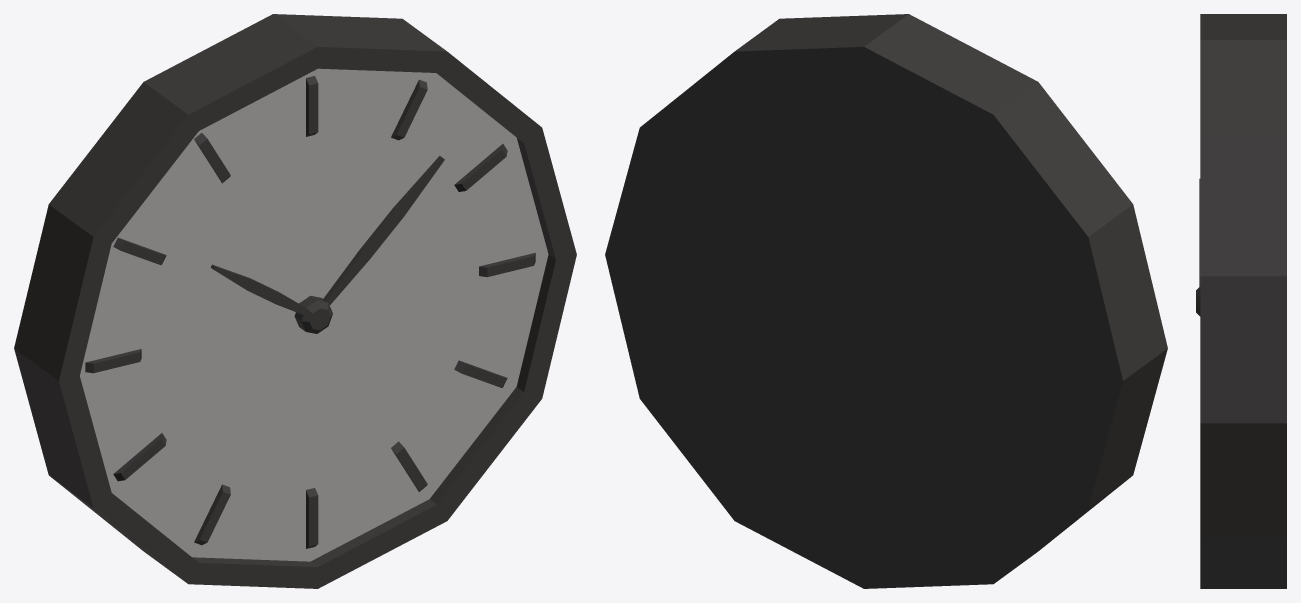
File: SM_Props_Interior_House_Room_Clock.fbx
The picture shows the model from 3 angles, left to right: view 1: azimuth 30°, elevation 25°; view 2: azimuth 150°, elevation 25°; view 3: azimuth 270°, elevation 25°; orthographic projection. The views are drawn at different scales.
Visible parts, largest first — view 1: SM_Props_Interior_House_Room_Clock; view 2: SM_Props_Interior_House_Room_Clock; view 3: SM_Props_Interior_House_Room_Clock.
Part boxes in pixels (left/top/right/bottom): SM_Props_Interior_House_Room_Clock: left=14, top=14, right=576, bottom=588; SM_Props_Interior_House_Room_Clock: left=605, top=14, right=1167, bottom=588; SM_Props_Interior_House_Room_Clock: left=1196, top=14, right=1286, bottom=588.
Size of the model in its own units: 20 by 20 by 3.15.
